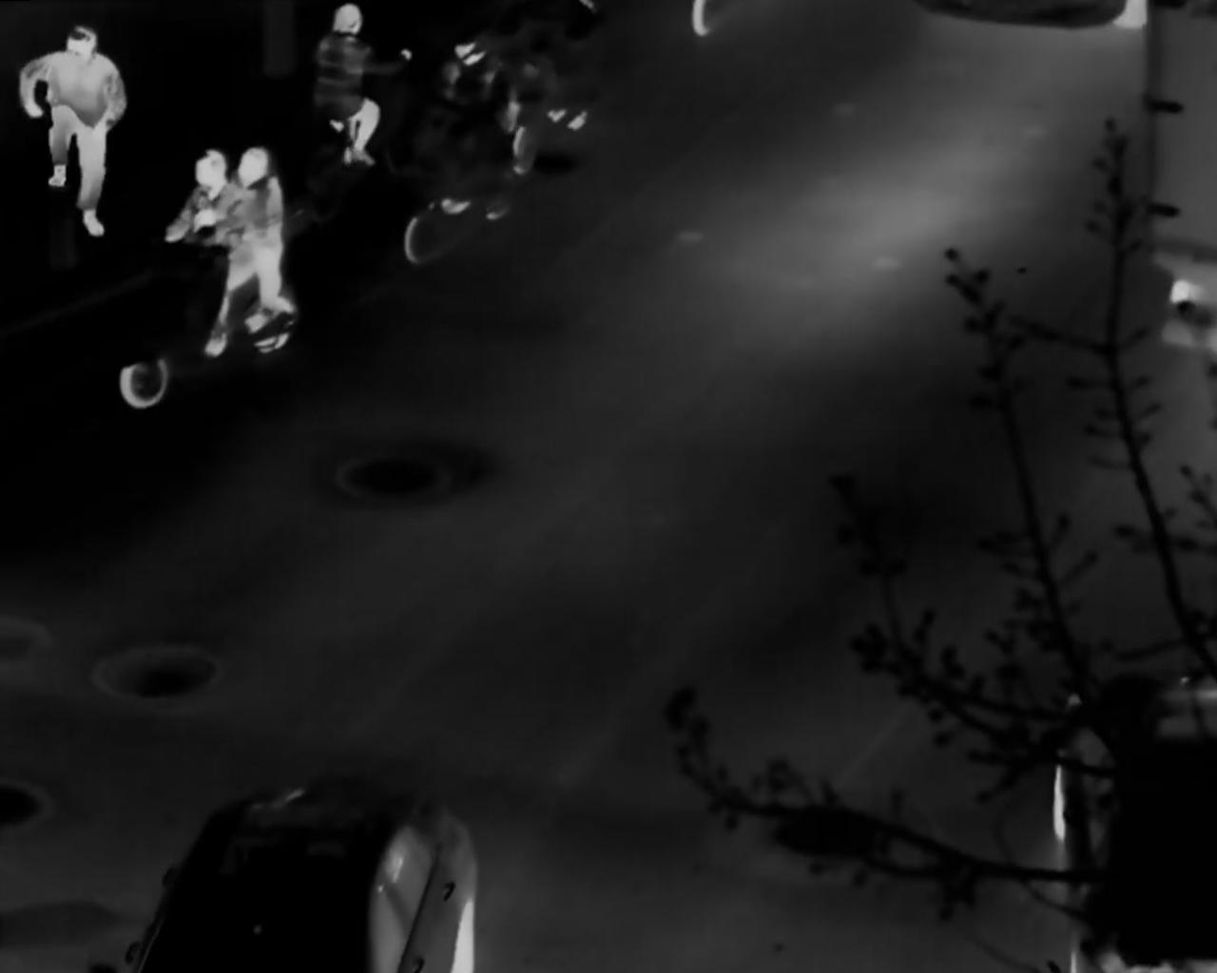person: (15, 24, 127, 238), (162, 148, 255, 358), (310, 2, 413, 172), (232, 145, 298, 334)
